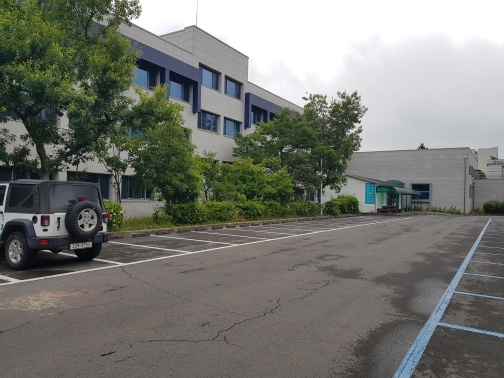College of Social Sciences: (17, 8, 484, 218)
